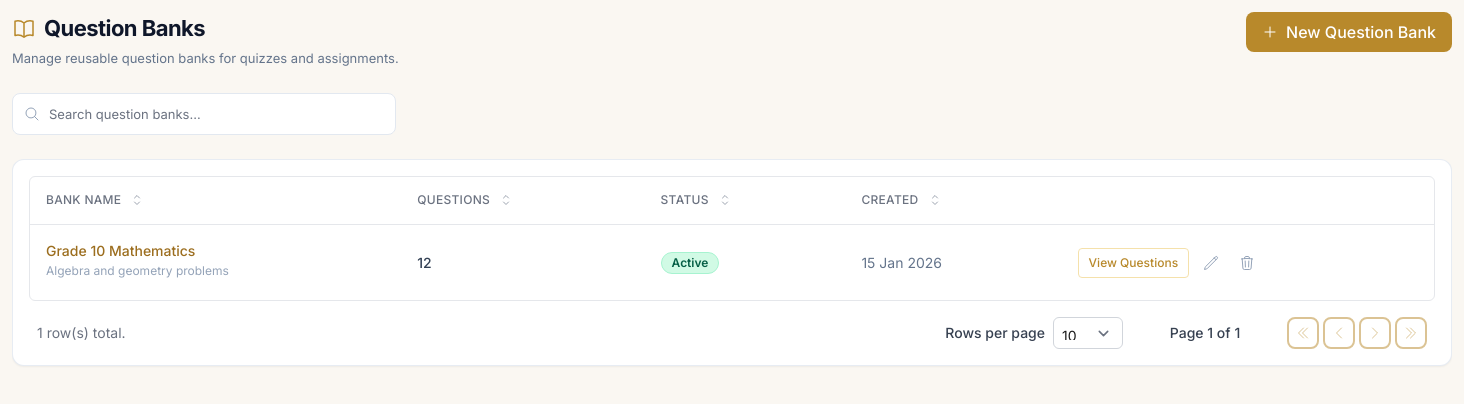
Scenario: QuestionBankPage — bank list › shows search-specific empty-state when search returns nothing
expect the text "Grade 10 Mathematics" is shown: met, box [46,242,195,259]
Type "xyz" into the field with placeholder "Search question banks…".
click(204, 114); type("xyz")  # box [12,92,396,134]
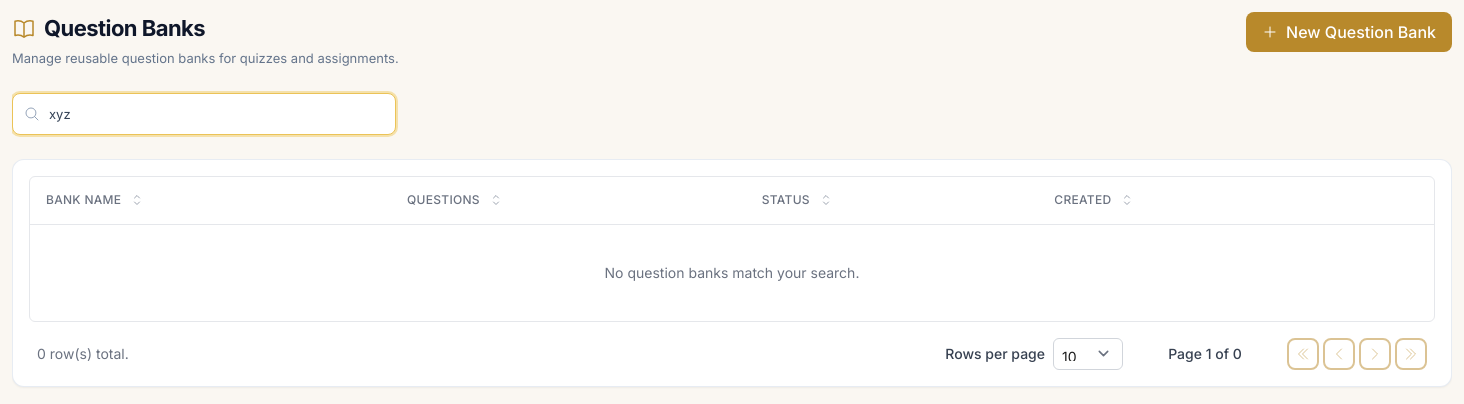
expect the text "No question banks match your search." is shown: met, box [30,224,1434,320]
